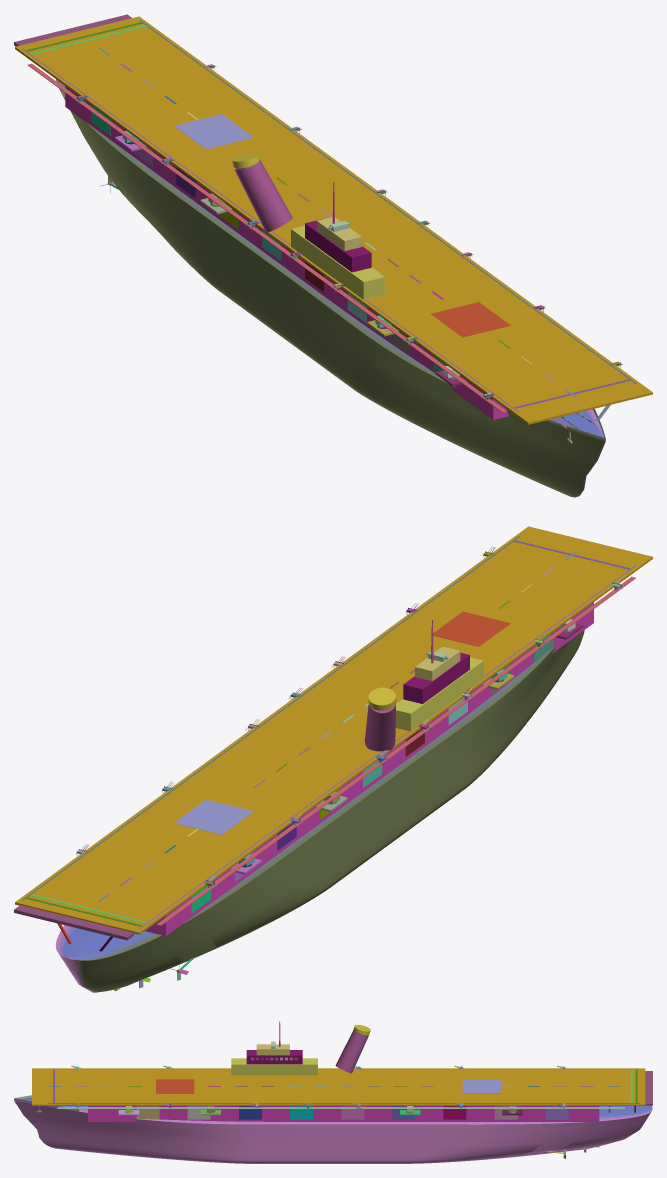
3 renders of one model, top to bottom at view 1: azimuth 30°, elevation 25°; view 2: azimuth 150°, elevation 25°; view 3: azimuth 270°, elevation 25°, orthographic. The views are drawn at different scales.
Parts seen in each view (by area): view 1: hull; view 2: hull; view 3: hull.
Part boxes in pixels (left/top/right/bottom): hull: left=14, top=14, right=652, bottom=497; hull: left=14, top=526, right=652, bottom=992; hull: left=14, top=1021, right=652, bottom=1163.
Size of what is drawn, in the model's own units: 40.21 by 49.02 by 250.
